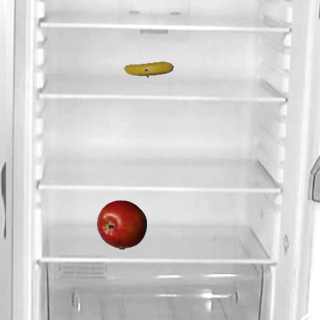Apple Braeburn: (96, 199, 146, 249)
Banana: (123, 44, 173, 94)
